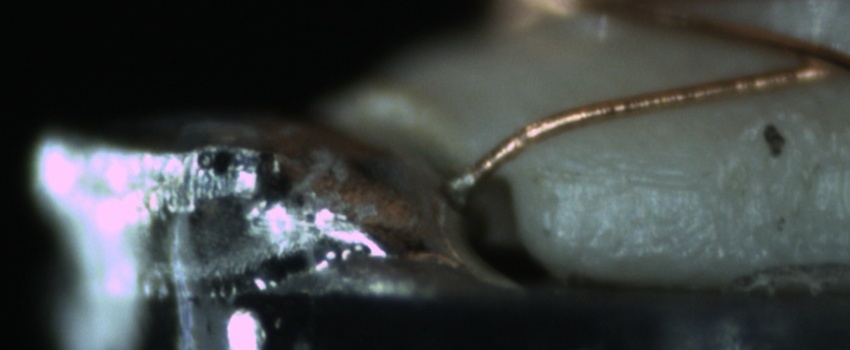CL: (771, 34, 847, 86)
DL: (547, 152, 700, 211)
